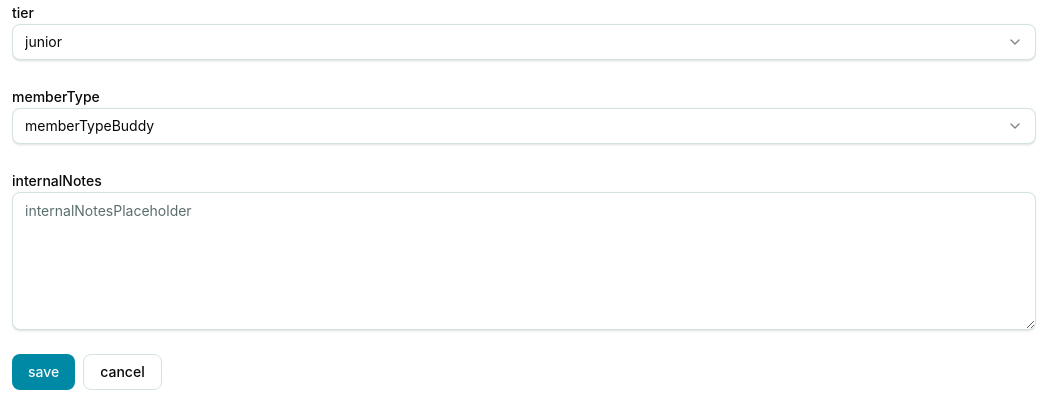
Test: BuddyForm › tier field › offers every BuddyTier plus the unset option
The width and height of the screenshot is (1048, 407).
Click the dropdown named "tier" at (44, 42), box left=12, top=24, right=1036, bottom=60
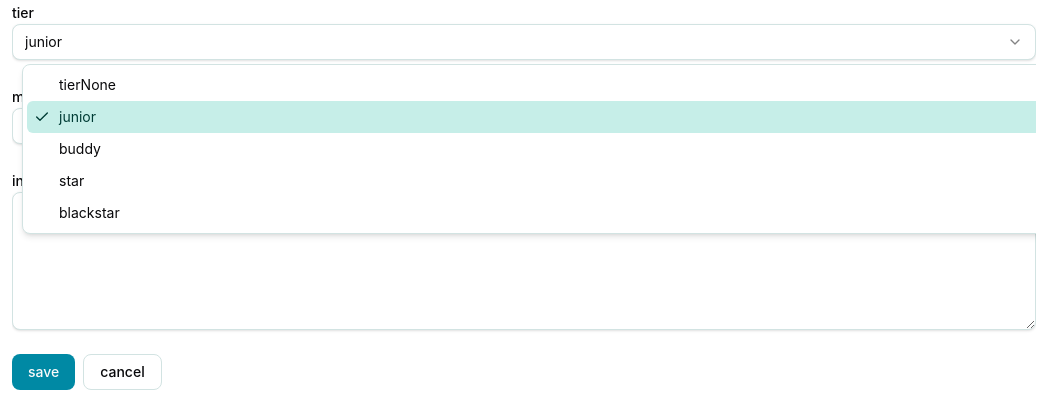
Expected: the option "tierNone" is shown, left=59, top=76, right=116, bottom=93
Expected: the option "buddy" is shown, left=59, top=140, right=101, bottom=157
Expected: the option "star" is shown, left=59, top=172, right=84, bottom=189
